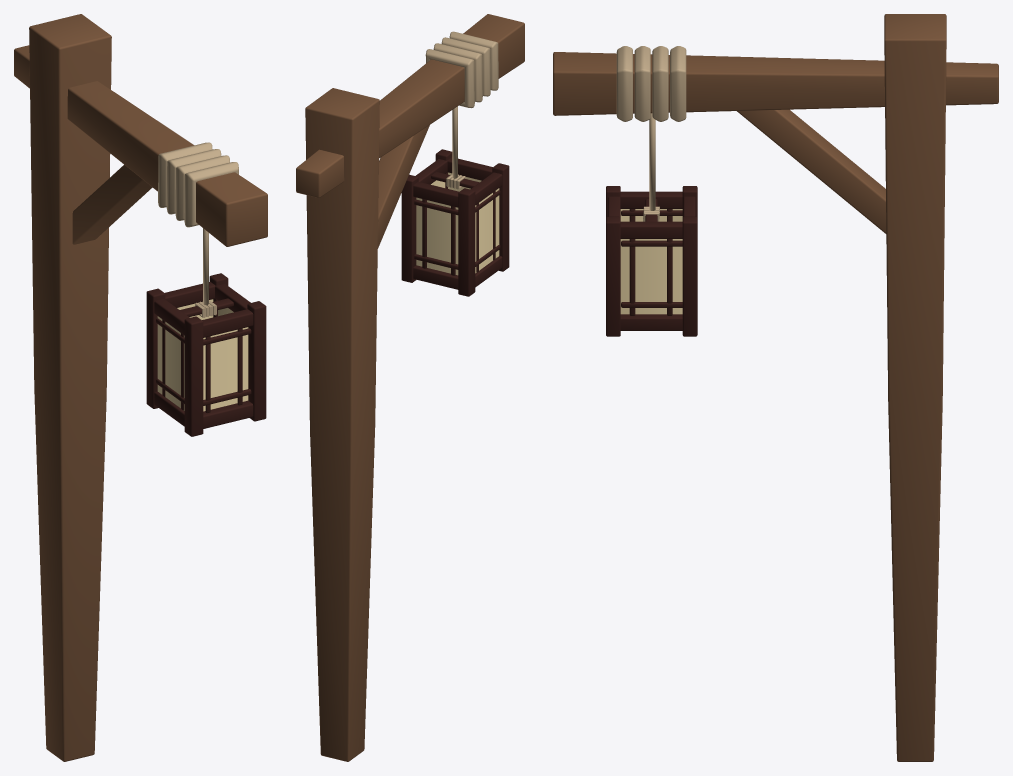
Rendered from Street_lantern.fbx.
The picture shows the model from 3 angles, left to right: view 1: azimuth 30°, elevation 25°; view 2: azimuth 150°, elevation 25°; view 3: azimuth 270°, elevation 25°; orthographic projection. The views are drawn at different scales.
Parts seen in each view (by area): view 1: Cube.003, Cube.010, Cube.004, Cube.007, Cube.006, Cylinder; view 2: Cube.003, Cube.010, Cube.004, Cube.007, Cube.006, Cylinder; view 3: Cube.003, Cube.004, Cube.010, Cube.006, Cube.007.
Part boxes in pixels (bbox=[...]): Cube.003: bbox=[29, 14, 111, 761]; Cube.010: bbox=[146, 273, 266, 436]; Cube.004: bbox=[14, 45, 267, 246]; Cube.007: bbox=[158, 142, 238, 227]; Cube.006: bbox=[72, 165, 152, 244]; Cylinder: bbox=[203, 228, 208, 305]; Cube.003: bbox=[305, 88, 379, 761]; Cube.010: bbox=[401, 149, 509, 296]; Cube.004: bbox=[296, 14, 524, 197]; Cube.007: bbox=[425, 31, 498, 108]; Cube.006: bbox=[377, 125, 429, 248]; Cylinder: bbox=[452, 106, 457, 178]; Cube.003: bbox=[884, 14, 946, 761]; Cube.004: bbox=[553, 52, 998, 115]; Cube.010: bbox=[606, 186, 697, 336]; Cube.006: bbox=[737, 109, 886, 233]; Cube.007: bbox=[616, 46, 686, 121].
Size of the model in its own units: 433 by 3953 by 2193.
